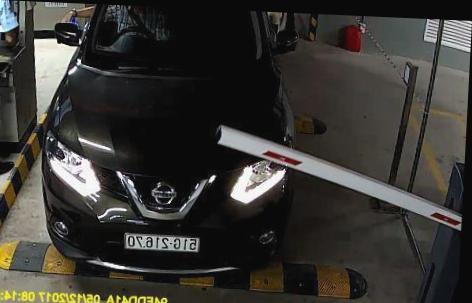License_Plate: (124, 229, 203, 255)
